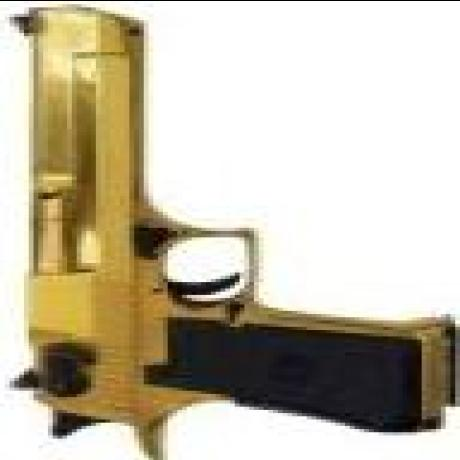weapon: (9, 0, 460, 458)
